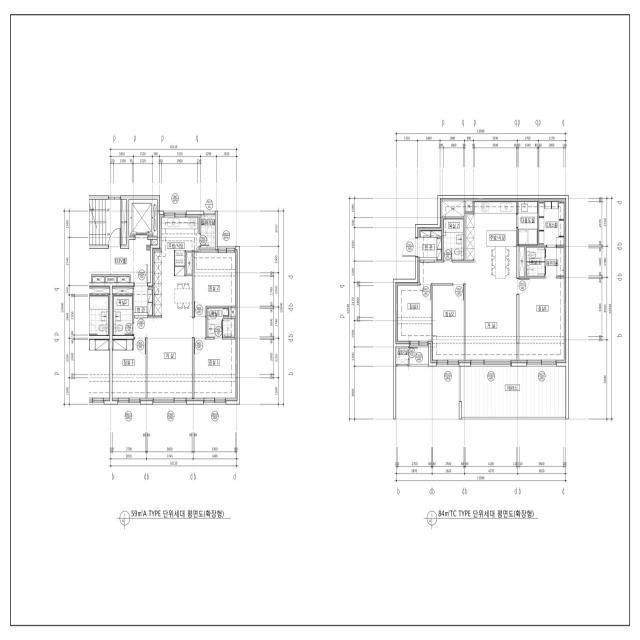space_bedroom: (519, 278, 564, 362), (194, 250, 237, 316), (194, 339, 237, 401), (433, 286, 464, 362), (112, 339, 146, 400), (398, 286, 431, 343)
space_elevator: (129, 200, 157, 236)
space_elevator_hall: (91, 240, 150, 283)
space_front: (418, 230, 442, 260), (134, 286, 153, 318)
space_kitchen: (153, 215, 200, 318), (465, 202, 516, 279)
space_living_room: (419, 260, 516, 362), (134, 318, 206, 401)
space_other: (539, 201, 564, 245), (518, 202, 537, 245), (545, 247, 564, 276), (442, 201, 464, 217), (122, 200, 126, 245), (519, 247, 525, 276), (112, 286, 133, 294), (187, 253, 193, 274), (466, 201, 473, 211), (93, 277, 104, 283), (118, 277, 129, 283), (231, 308, 238, 316), (106, 277, 116, 282), (152, 240, 157, 245)
space_outdoor_room: (201, 215, 215, 248), (396, 347, 408, 364)
space_staircase: (89, 199, 121, 245)
space_toilet: (443, 219, 464, 260), (207, 308, 234, 337), (113, 296, 132, 335), (526, 247, 545, 277)
